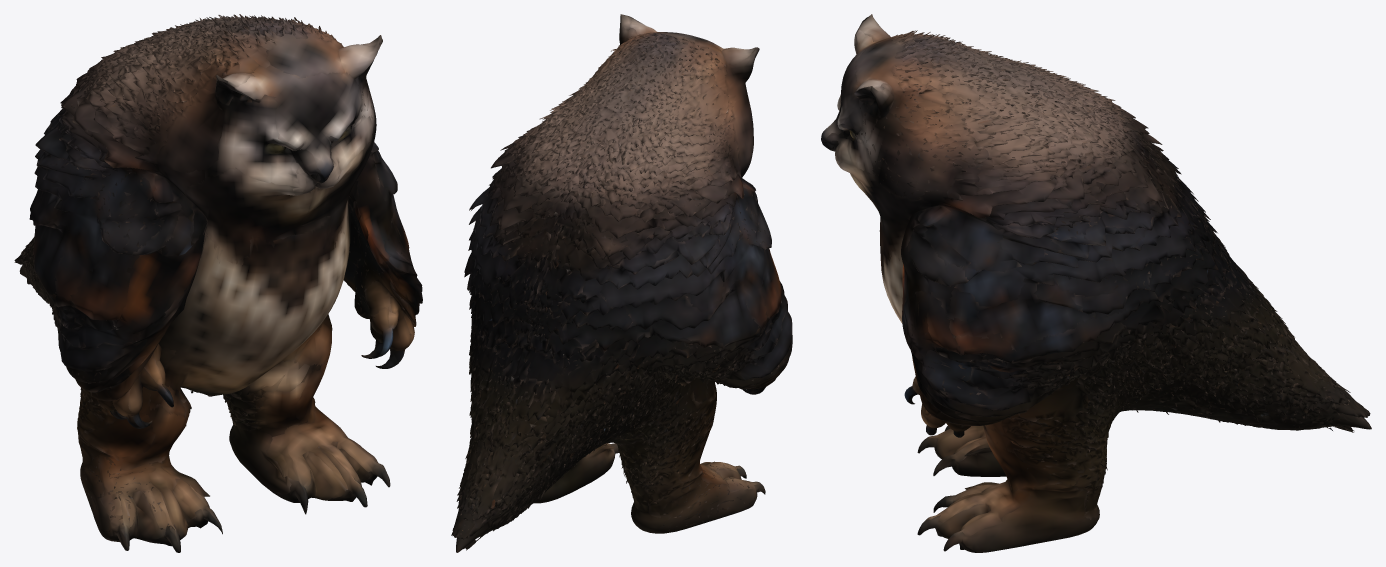
Rendered from owlbear.glb.
The picture shows the model from 3 angles, left to right: view 1: azimuth 30°, elevation 25°; view 2: azimuth 150°, elevation 25°; view 3: azimuth 270°, elevation 25°; orthographic projection. The views are drawn at different scales.
Parts seen in each view (by area): view 1: material; view 2: material; view 3: material.
Boxes of the visible parts, x1=… form: material: x1=14, y1=14, x2=422, y2=552; material: x1=451, y1=14, x2=792, y2=552; material: x1=821, y1=14, x2=1371, y2=552.
Size of the model in its own units: 0.6068 by 0.8835 by 0.9677.
Materials: 1 (1 with a texture image).
